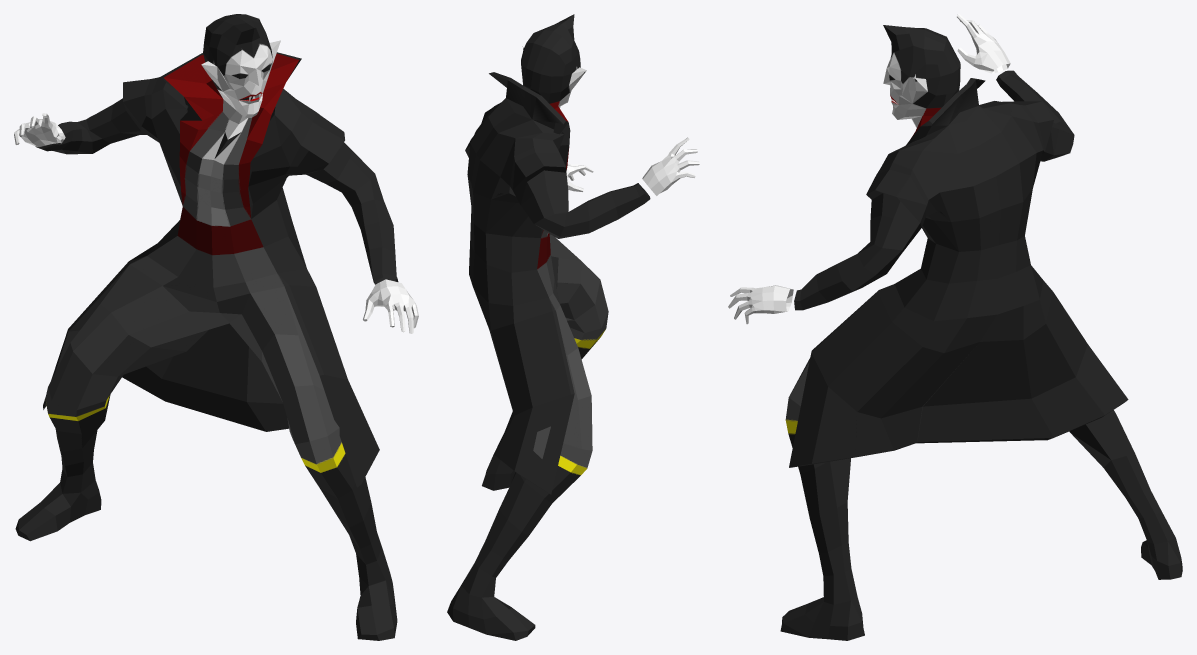
Rendered from VampireAttack(56).obj.
3 views of the same model, side by side, from view 1: azimuth 30°, elevation 25°; view 2: azimuth 150°, elevation 25°; view 3: azimuth 270°, elevation 25° (orthographic). The views are drawn at different scales.
Parts seen in each view (by area): view 1: Plane002; view 2: Plane002; view 3: Plane002.
Boxes of the visible parts, box(x1,y1,x2,y2) form: Plane002: box(14, 14, 418, 640); Plane002: box(447, 14, 699, 640); Plane002: box(728, 14, 1182, 640).
Bounding box in the file's own units: 166 × 299 × 217.
